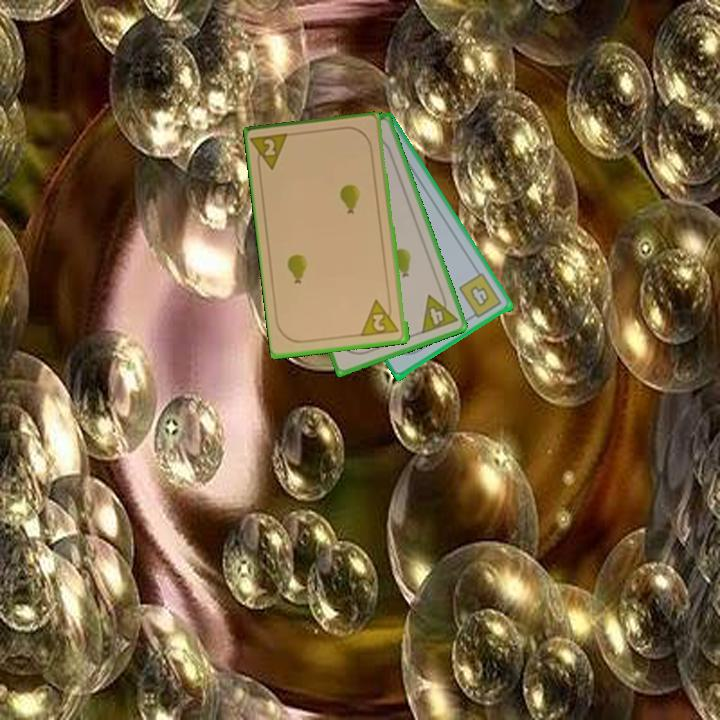2p: (249, 130, 294, 175), (359, 296, 403, 340)
4b: (456, 270, 505, 323)
4p: (418, 287, 461, 337)
